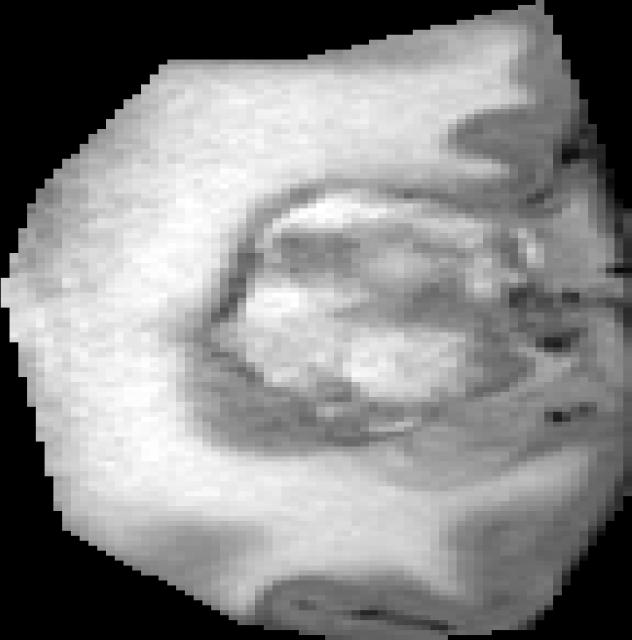tumor_less_chance: (1, 0, 632, 640)
